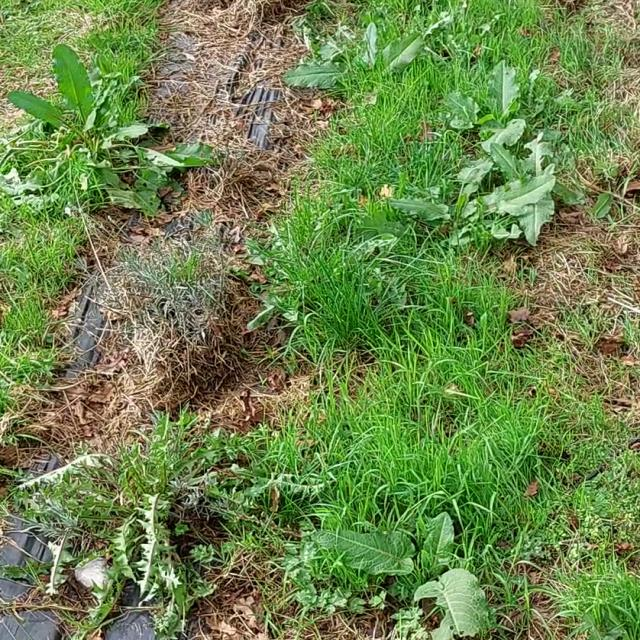organic waste: (317, 498, 524, 640), (372, 165, 612, 282), (12, 46, 180, 210), (292, 12, 472, 113), (433, 125, 596, 236), (412, 56, 570, 152)
